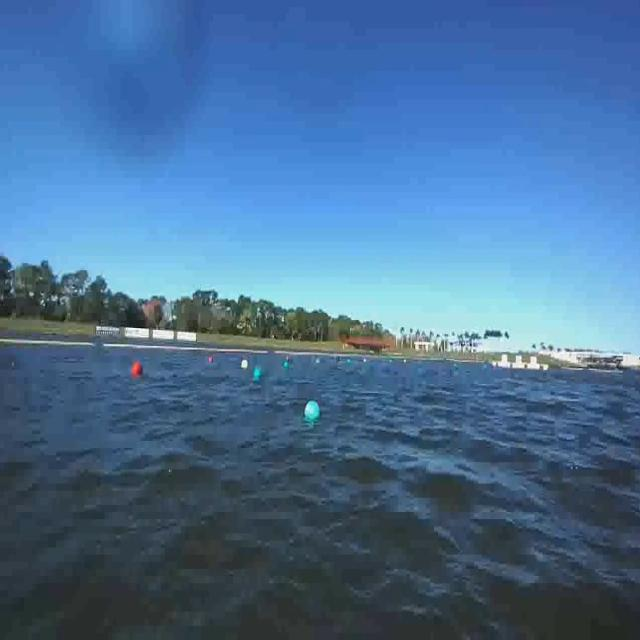green-buoy: (306, 402, 322, 424), (253, 367, 262, 378)
red-buoy: (133, 360, 145, 378)
yellow-buoy: (242, 358, 249, 368)
